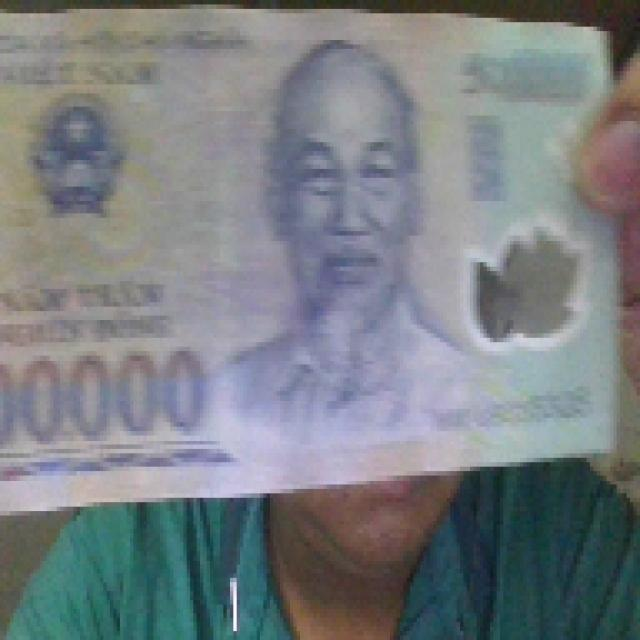500 000 VND: (0, 0, 627, 520)
